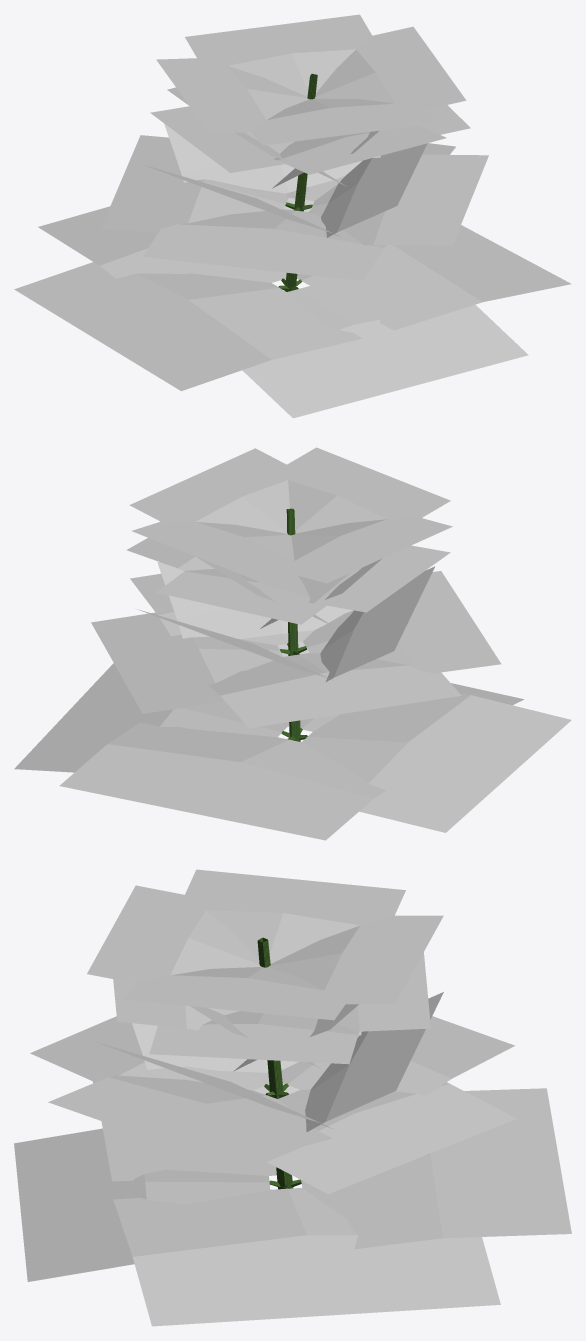
Rendered from plant_1_3_0.obj.
The picture shows the model from 3 angles, top to bottom: view 1: azimuth 30°, elevation 25°; view 2: azimuth 150°, elevation 25°; view 3: azimuth 270°, elevation 25°; orthographic projection. The views are drawn at different scales.
Parts seen in each view (by area): view 1: model; view 2: model; view 3: model.
Boxes of the visible parts, bbox=[...] form: model: bbox=[14, 14, 571, 418]; model: bbox=[14, 447, 571, 840]; model: bbox=[14, 869, 571, 1326].
Bounding box in the file's own units: 0.8198 × 0.467 × 0.769.
